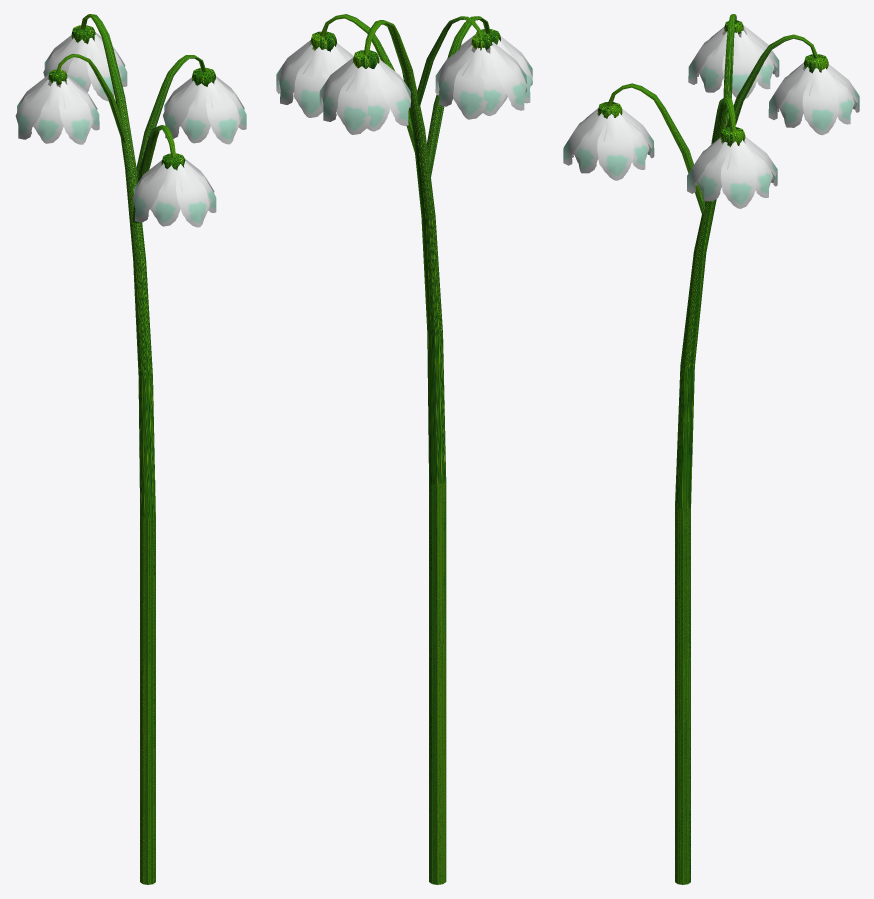
File: campanilla.FBX
3 renders of one model, left to right at view 1: azimuth 30°, elevation 25°; view 2: azimuth 150°, elevation 25°; view 3: azimuth 270°, elevation 25°, orthographic. The views are drawn at different scales.
Visible parts, largest first — view 1: brote campanilla; view 2: brote campanilla; view 3: brote campanilla.
Part boxes in pixels (x1=…): brote campanilla: x1=15, y1=14, x2=246, y2=884; brote campanilla: x1=276, y1=14, x2=532, y2=884; brote campanilla: x1=563, y1=14, x2=859, y2=884.
Size of the model in its own units: 6.54 by 23.05 by 7.31.
